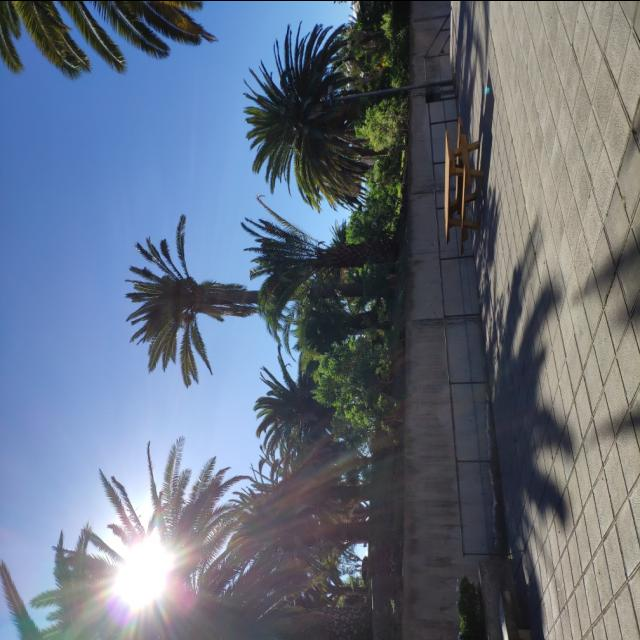Palm-Trees: (125, 231, 383, 359), (248, 35, 388, 184), (253, 206, 392, 306), (258, 366, 372, 448)
